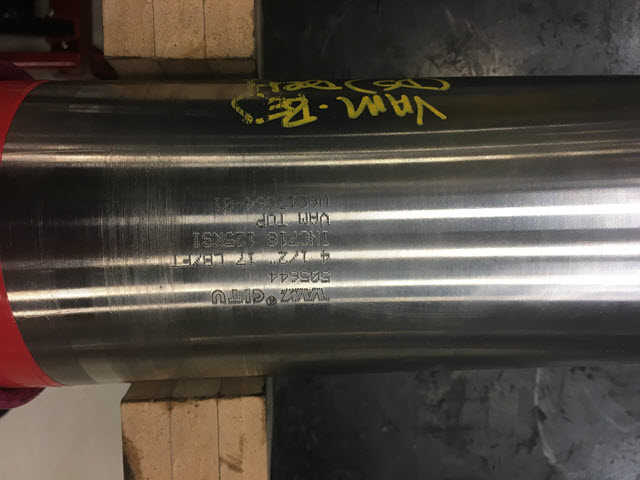character: (275, 209, 292, 228), (264, 229, 281, 248), (318, 247, 333, 265), (189, 231, 203, 250), (296, 208, 309, 228), (264, 210, 277, 230), (276, 248, 291, 265), (233, 249, 248, 266), (201, 252, 216, 269), (308, 207, 320, 228), (254, 211, 267, 230), (298, 228, 311, 247), (201, 231, 215, 248), (233, 230, 246, 248), (309, 229, 321, 248), (288, 228, 300, 247), (222, 231, 236, 247), (319, 269, 333, 285), (318, 209, 331, 226), (212, 232, 225, 249), (319, 229, 331, 247), (277, 268, 290, 284), (246, 247, 257, 265), (214, 252, 226, 268), (299, 269, 311, 285), (268, 268, 280, 284), (246, 231, 257, 247), (279, 229, 289, 246), (301, 247, 311, 264), (290, 267, 300, 284), (288, 249, 300, 263), (310, 268, 320, 284)
